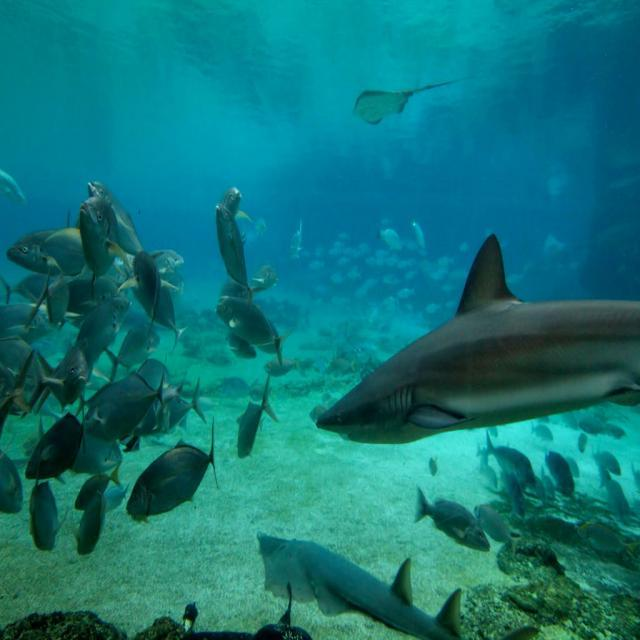Shark: (317, 230, 638, 441)
